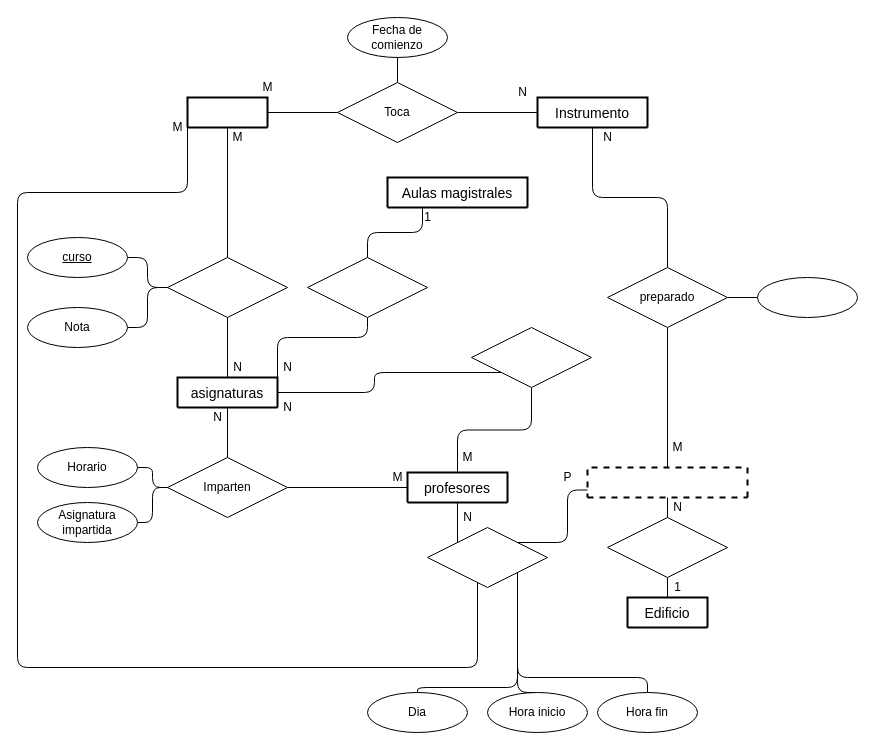
This 875x750 diagram has some shape labels left out. The shapes that lost their labels are listed below. From the top down, each one's centre as x and y in pixels, then its label:
At [227,112]: "Alumno".
At [227,287]: "Cursan".
At [367,287]: "Impartir".
At [807,297]: "puestos".
At [531,357]: "Puede impartir".
At [667,482]: "aulas instrumentales".
At [487,557]: "reservan".
At [667,547]: "tiene".
